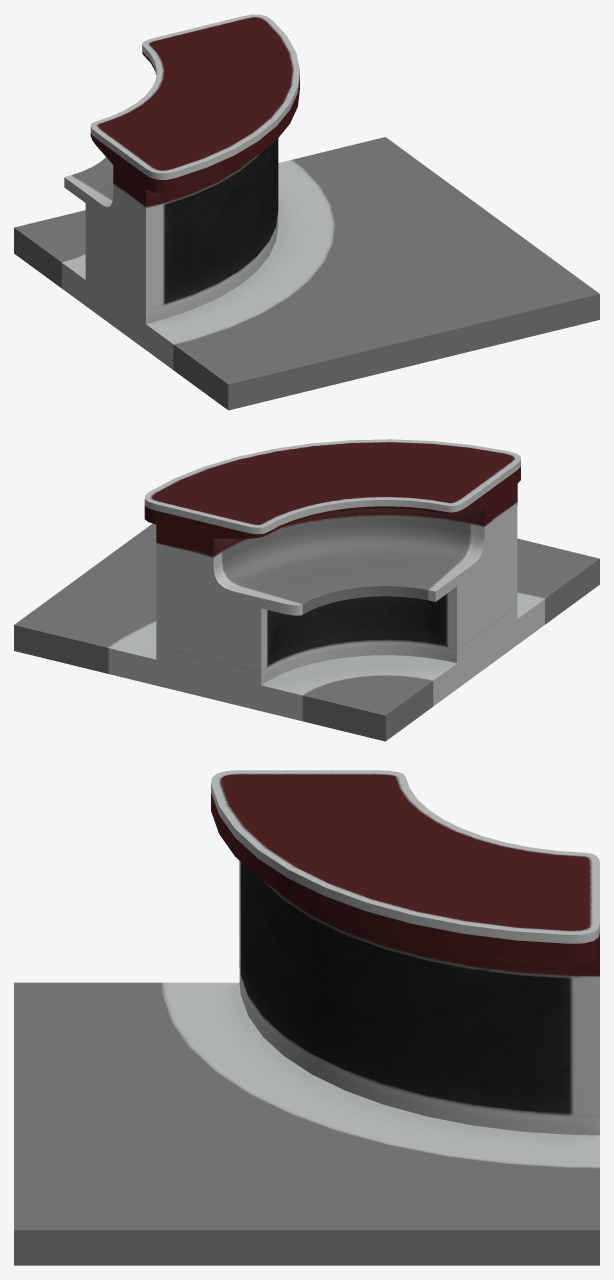
The model's file is Room_Floor_Coner_A_A.FBX.
3 renders of one model, top to bottom at view 1: azimuth 30°, elevation 25°; view 2: azimuth 150°, elevation 25°; view 3: azimuth 270°, elevation 25°, orthographic. The views are drawn at different scales.
Visible parts, largest first — view 1: Room_Floor_Coner_A_A; view 2: Room_Floor_Coner_A_A; view 3: Room_Floor_Coner_A_A.
Boxes of the visible parts, x1,y1,x2,y2 form: Room_Floor_Coner_A_A: (14,14,599,410); Room_Floor_Coner_A_A: (14,439,599,741); Room_Floor_Coner_A_A: (14,770,599,1265).
Size of the model in its own units: 300 by 140 by 300.
Materials: 1 (1 with a texture image).
